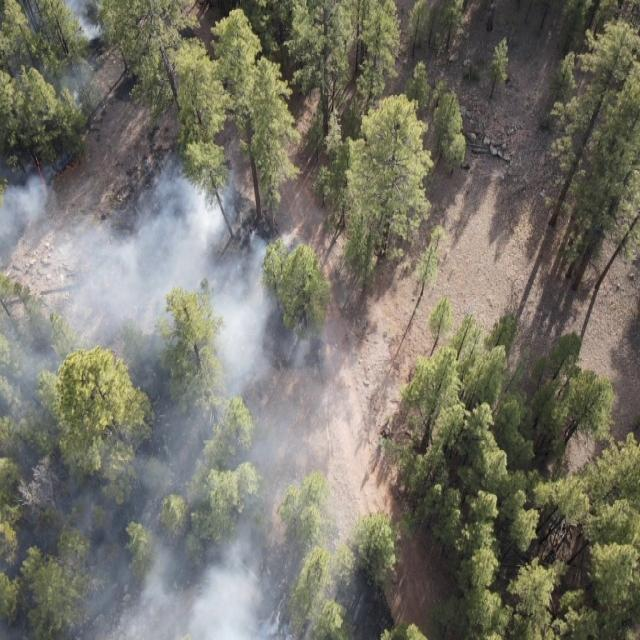fire: (29, 143, 52, 193), (53, 159, 84, 179)
smoke: (59, 152, 358, 434), (0, 431, 328, 640), (11, 0, 114, 116), (0, 284, 59, 436), (0, 163, 60, 281)
